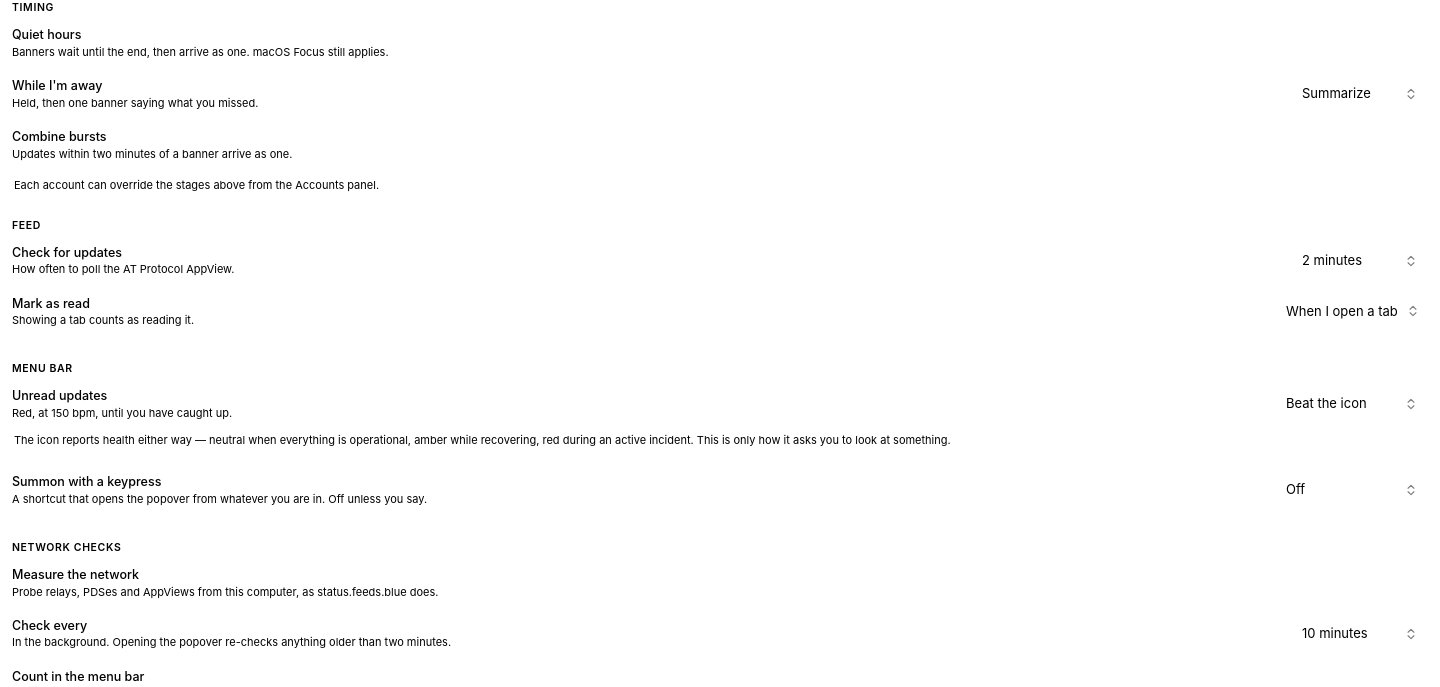
Test: the feed settings › offers every way of marking updates read
(page scrolled)
Press the mouse on the button "When I open a tab" at (1352, 311), box [1276,295,1428,327]
(page scrolled)
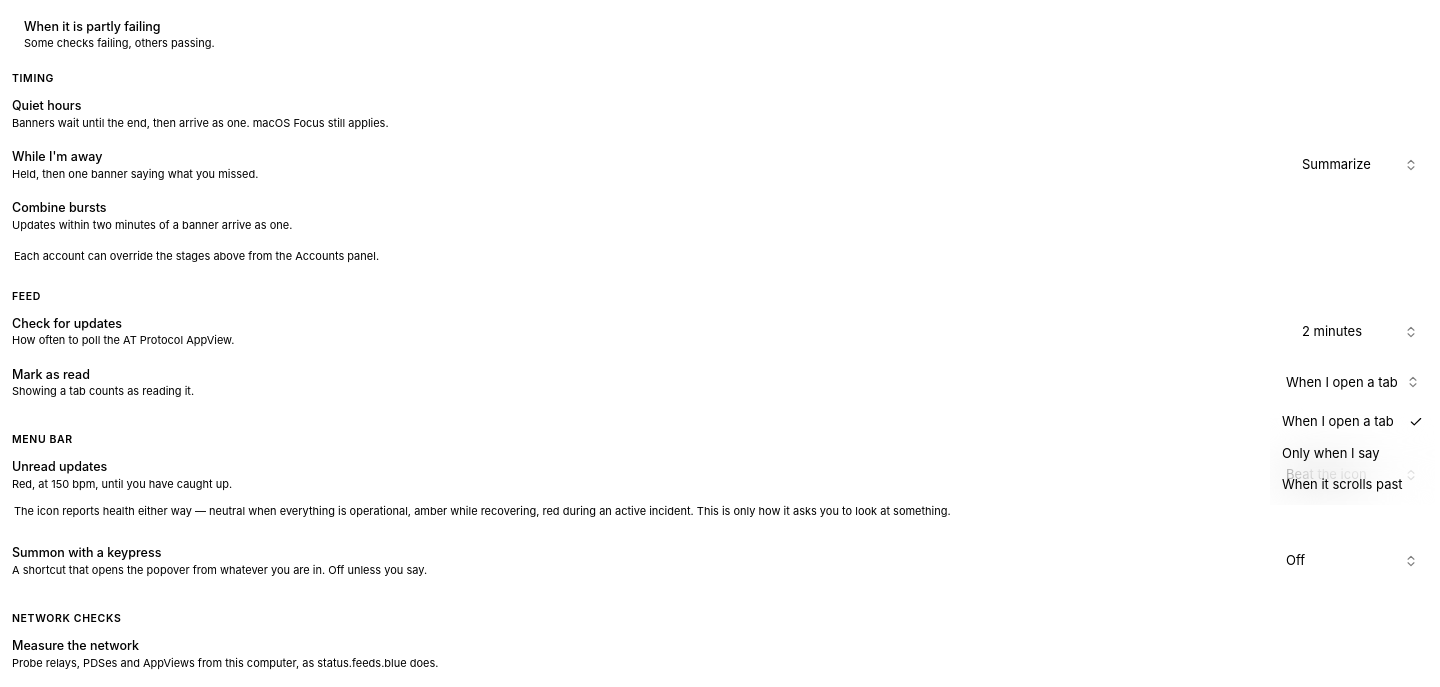
Expected: the list shows "When I open a tab", [1282,413,1394,429]
Expected: the list shows "Only when I say", [1282,444,1380,460]
Expected: the list shows "When it scrolls past", [1282,476,1403,492]
